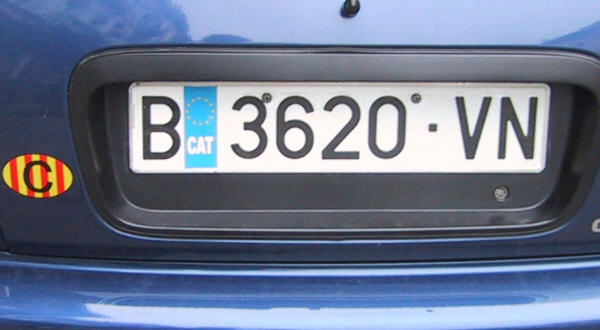license_plate: (127, 78, 552, 171)
